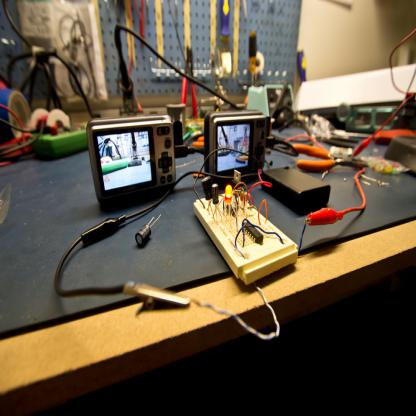Camera: (79, 107, 177, 228), (203, 112, 270, 181)
